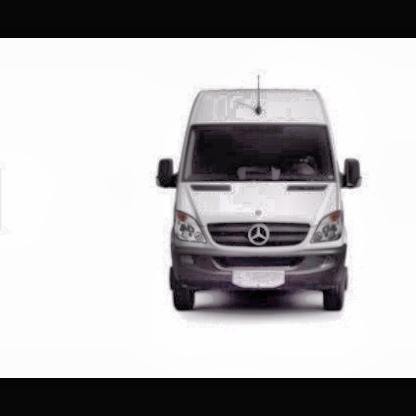Mercedes-Benz Sprinter Van 2012: (158, 74, 366, 313)
